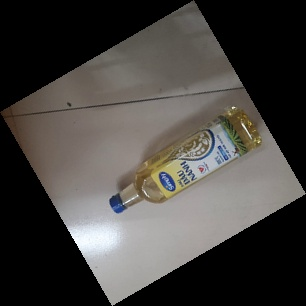Simply: (108, 103, 263, 215)
